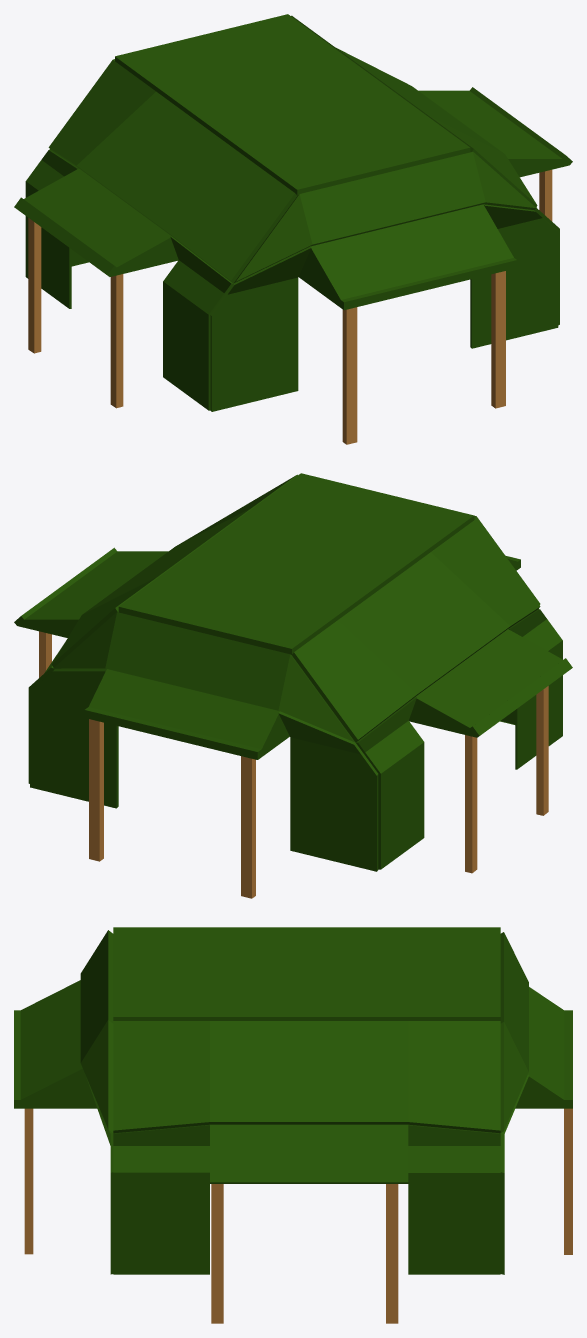
Rendered from medcamp.fbx.
The picture shows the model from 3 angles, top to bottom: view 1: azimuth 30°, elevation 25°; view 2: azimuth 150°, elevation 25°; view 3: azimuth 270°, elevation 25°; orthographic projection. The views are drawn at different scales.
Visible parts, largest first — view 1: Cube.010; view 2: Cube.010; view 3: Cube.010.
Part boxes in pixels (<box>): Cube.010: <box>14,14,572,444</box>; Cube.010: <box>14,473,572,898</box>; Cube.010: <box>14,927,572,1323</box>.
Size of the model in its own units: 957 by 445 by 937.
